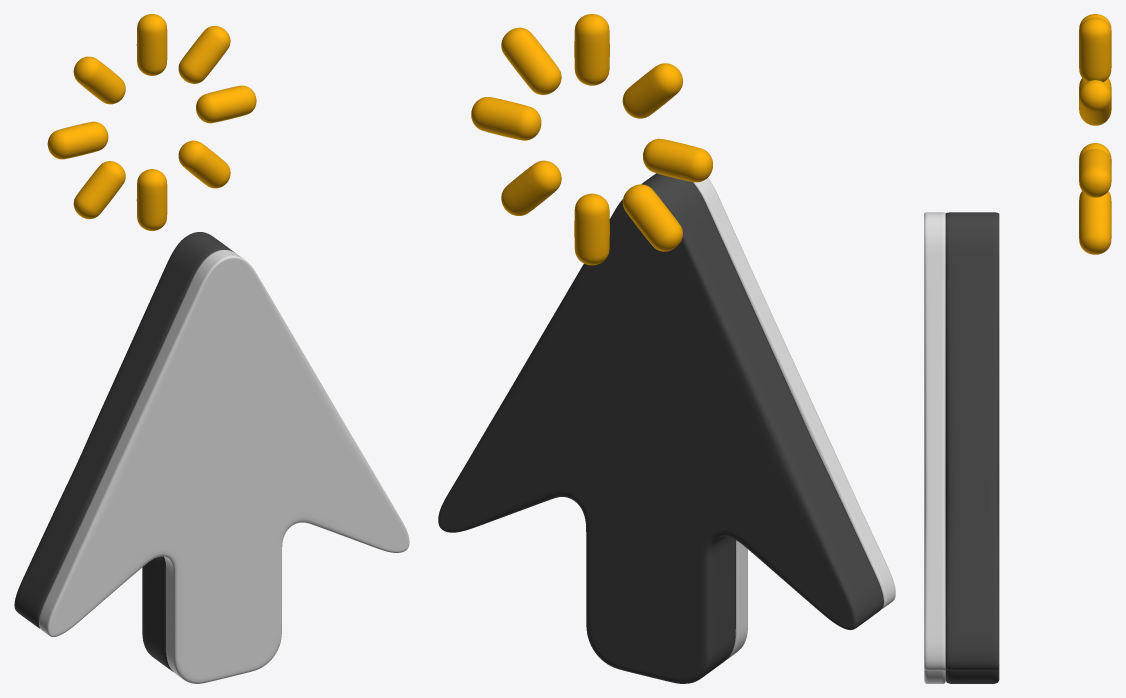
File: cursor-arrow-active-animated-3d-icon-1620202589713.glb
3 renders of one model, left to right at view 1: azimuth 30°, elevation 25°; view 2: azimuth 150°, elevation 25°; view 3: azimuth 270°, elevation 25°, orthographic. The views are drawn at different scales.
Visible parts, largest first — view 1: Cursor 1.001, Cursor 2.001, Active Dash; view 2: Cursor 2.001, Active Dash, Cursor 1.001; view 3: Cursor 2.001, Cursor 1.001, Active Dash.
Boxes of the visible parts, box(x1,y1,x2,y2) form: Cursor 1.001: box(39, 250, 409, 683); Cursor 2.001: box(14, 232, 234, 671); Active Dash: box(47, 14, 256, 230); Cursor 2.001: box(438, 173, 883, 683); Active Dash: box(471, 14, 712, 265); Cursor 1.001: box(693, 178, 895, 659); Cursor 2.001: box(945, 212, 999, 683); Cursor 1.001: box(924, 212, 945, 683); Active Dash: box(1079, 14, 1111, 254).
Size of the model in its own units: 1.26 by 2 by 0.5241.
